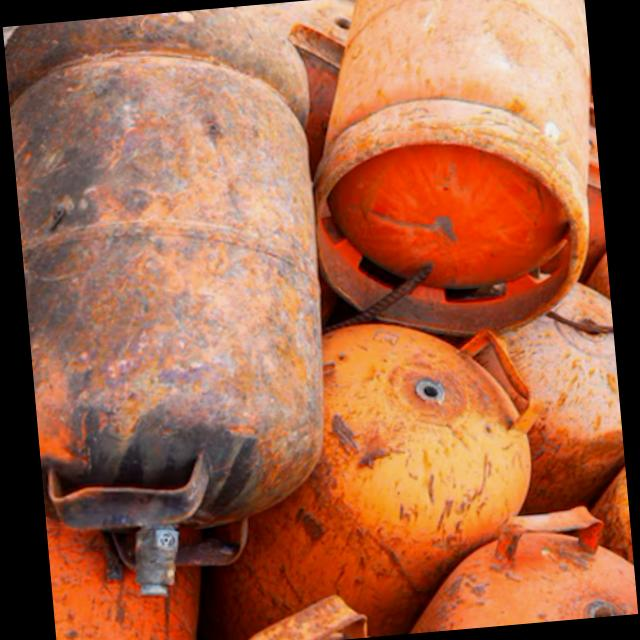Cylinders: (3, 6, 321, 599), (312, 0, 585, 335)
